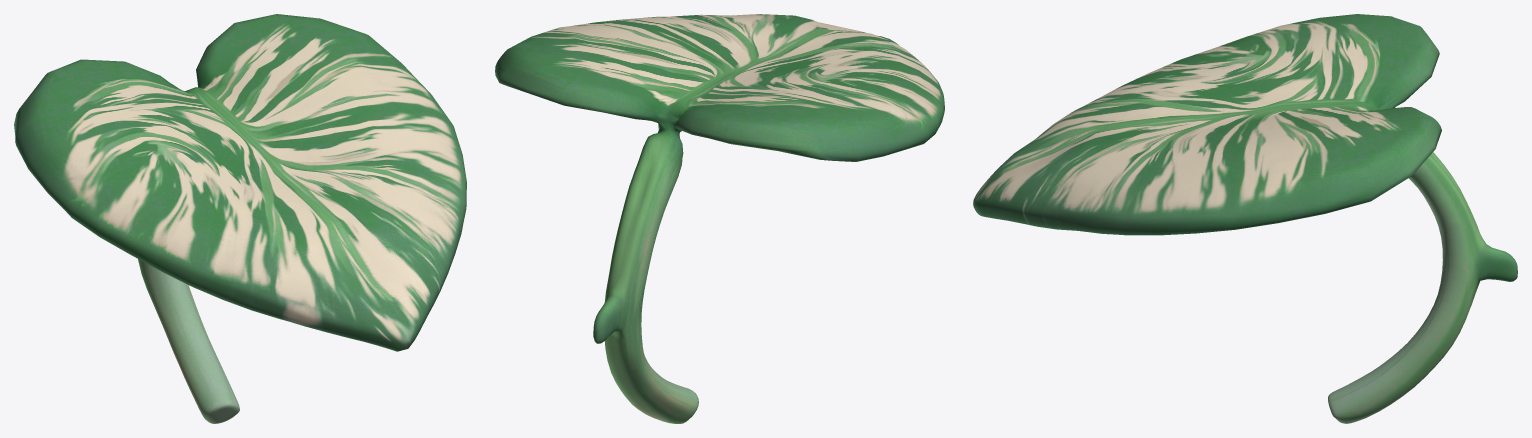
File: pothos_marble_whitegreen_v1.glb
The picture shows the model from 3 angles, left to right: view 1: azimuth 30°, elevation 25°; view 2: azimuth 150°, elevation 25°; view 3: azimuth 270°, elevation 25°; orthographic projection. The views are drawn at different scales.
Visible parts, largest first — view 1: world; view 2: world; view 3: world.
Part boxes in pixels (<box>): world: <box>14,14,466,423</box>; world: <box>495,14,944,423</box>; world: <box>973,14,1517,423</box>.
Bounding box in the file's own units: 1.54 × 1.37 × 2.
1 material, 1 textured.
